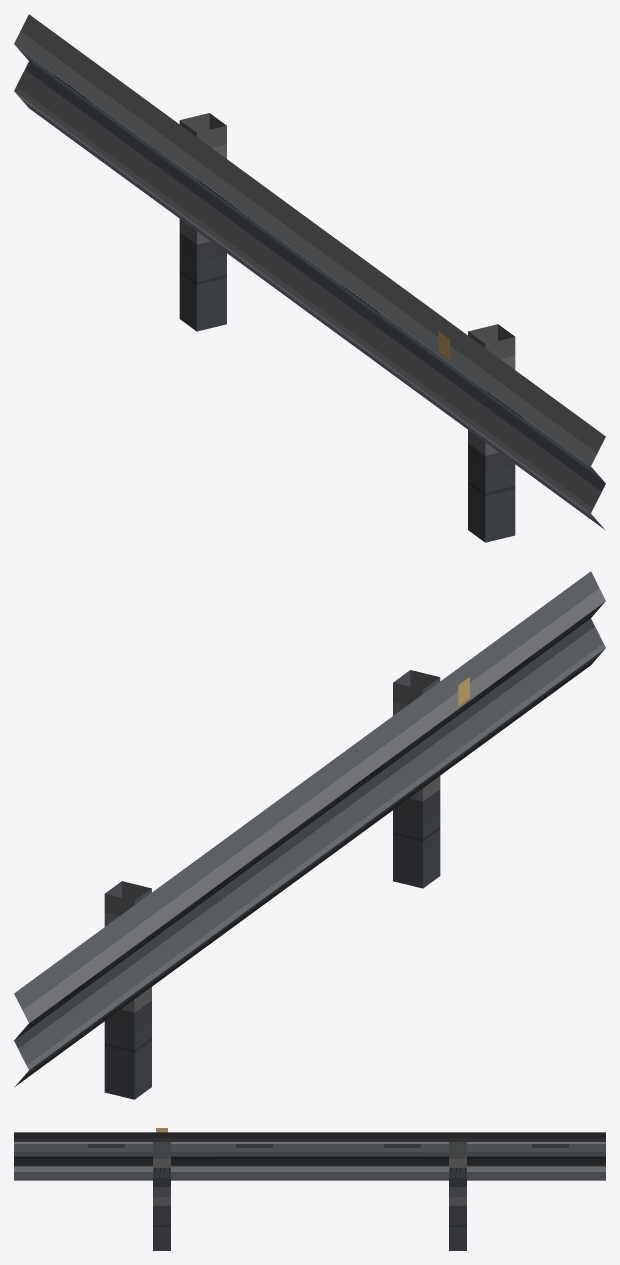
File: touge_guardrail.glb
3 views of the same model, one above another, from view 1: azimuth 30°, elevation 25°; view 2: azimuth 150°, elevation 25°; view 3: azimuth 270°, elevation 25° (orthographic). The views are drawn at different scales.
Visible parts, largest first — view 1: touge_guardrail; view 2: touge_guardrail; view 3: touge_guardrail.
Part boxes in pixels (box(x1,y1,x2,y2)): touge_guardrail: box(14, 14, 605, 542); touge_guardrail: box(14, 571, 605, 1099); touge_guardrail: box(14, 1128, 605, 1250).
Bounding box in the file's own units: 0.25 × 0.8 × 4.
2 materials, 2 textured.
